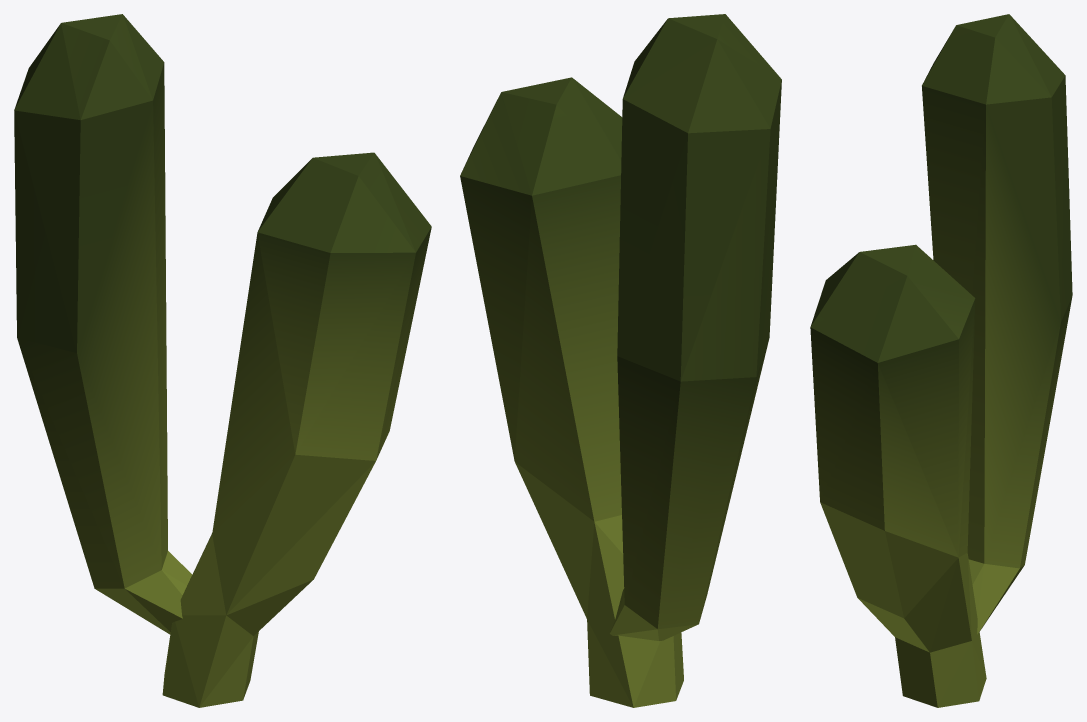
File: Mixed_Cactus_05.fbx
3 views of the same model, side by side, from view 1: azimuth 30°, elevation 25°; view 2: azimuth 150°, elevation 25°; view 3: azimuth 270°, elevation 25° (orthographic). The views are drawn at different scales.
Visible parts, largest first — view 1: Cactus_05.001; view 2: Cactus_05.001; view 3: Cactus_05.001.
Boxes of the visible parts, x1=… form: Cactus_05.001: x1=14, y1=14, x2=431, y2=707; Cactus_05.001: x1=460, y1=14, x2=781, y2=707; Cactus_05.001: x1=810, y1=14, x2=1072, y2=707.
Bounding box in the file's own units: 120 × 219 × 83.04.
